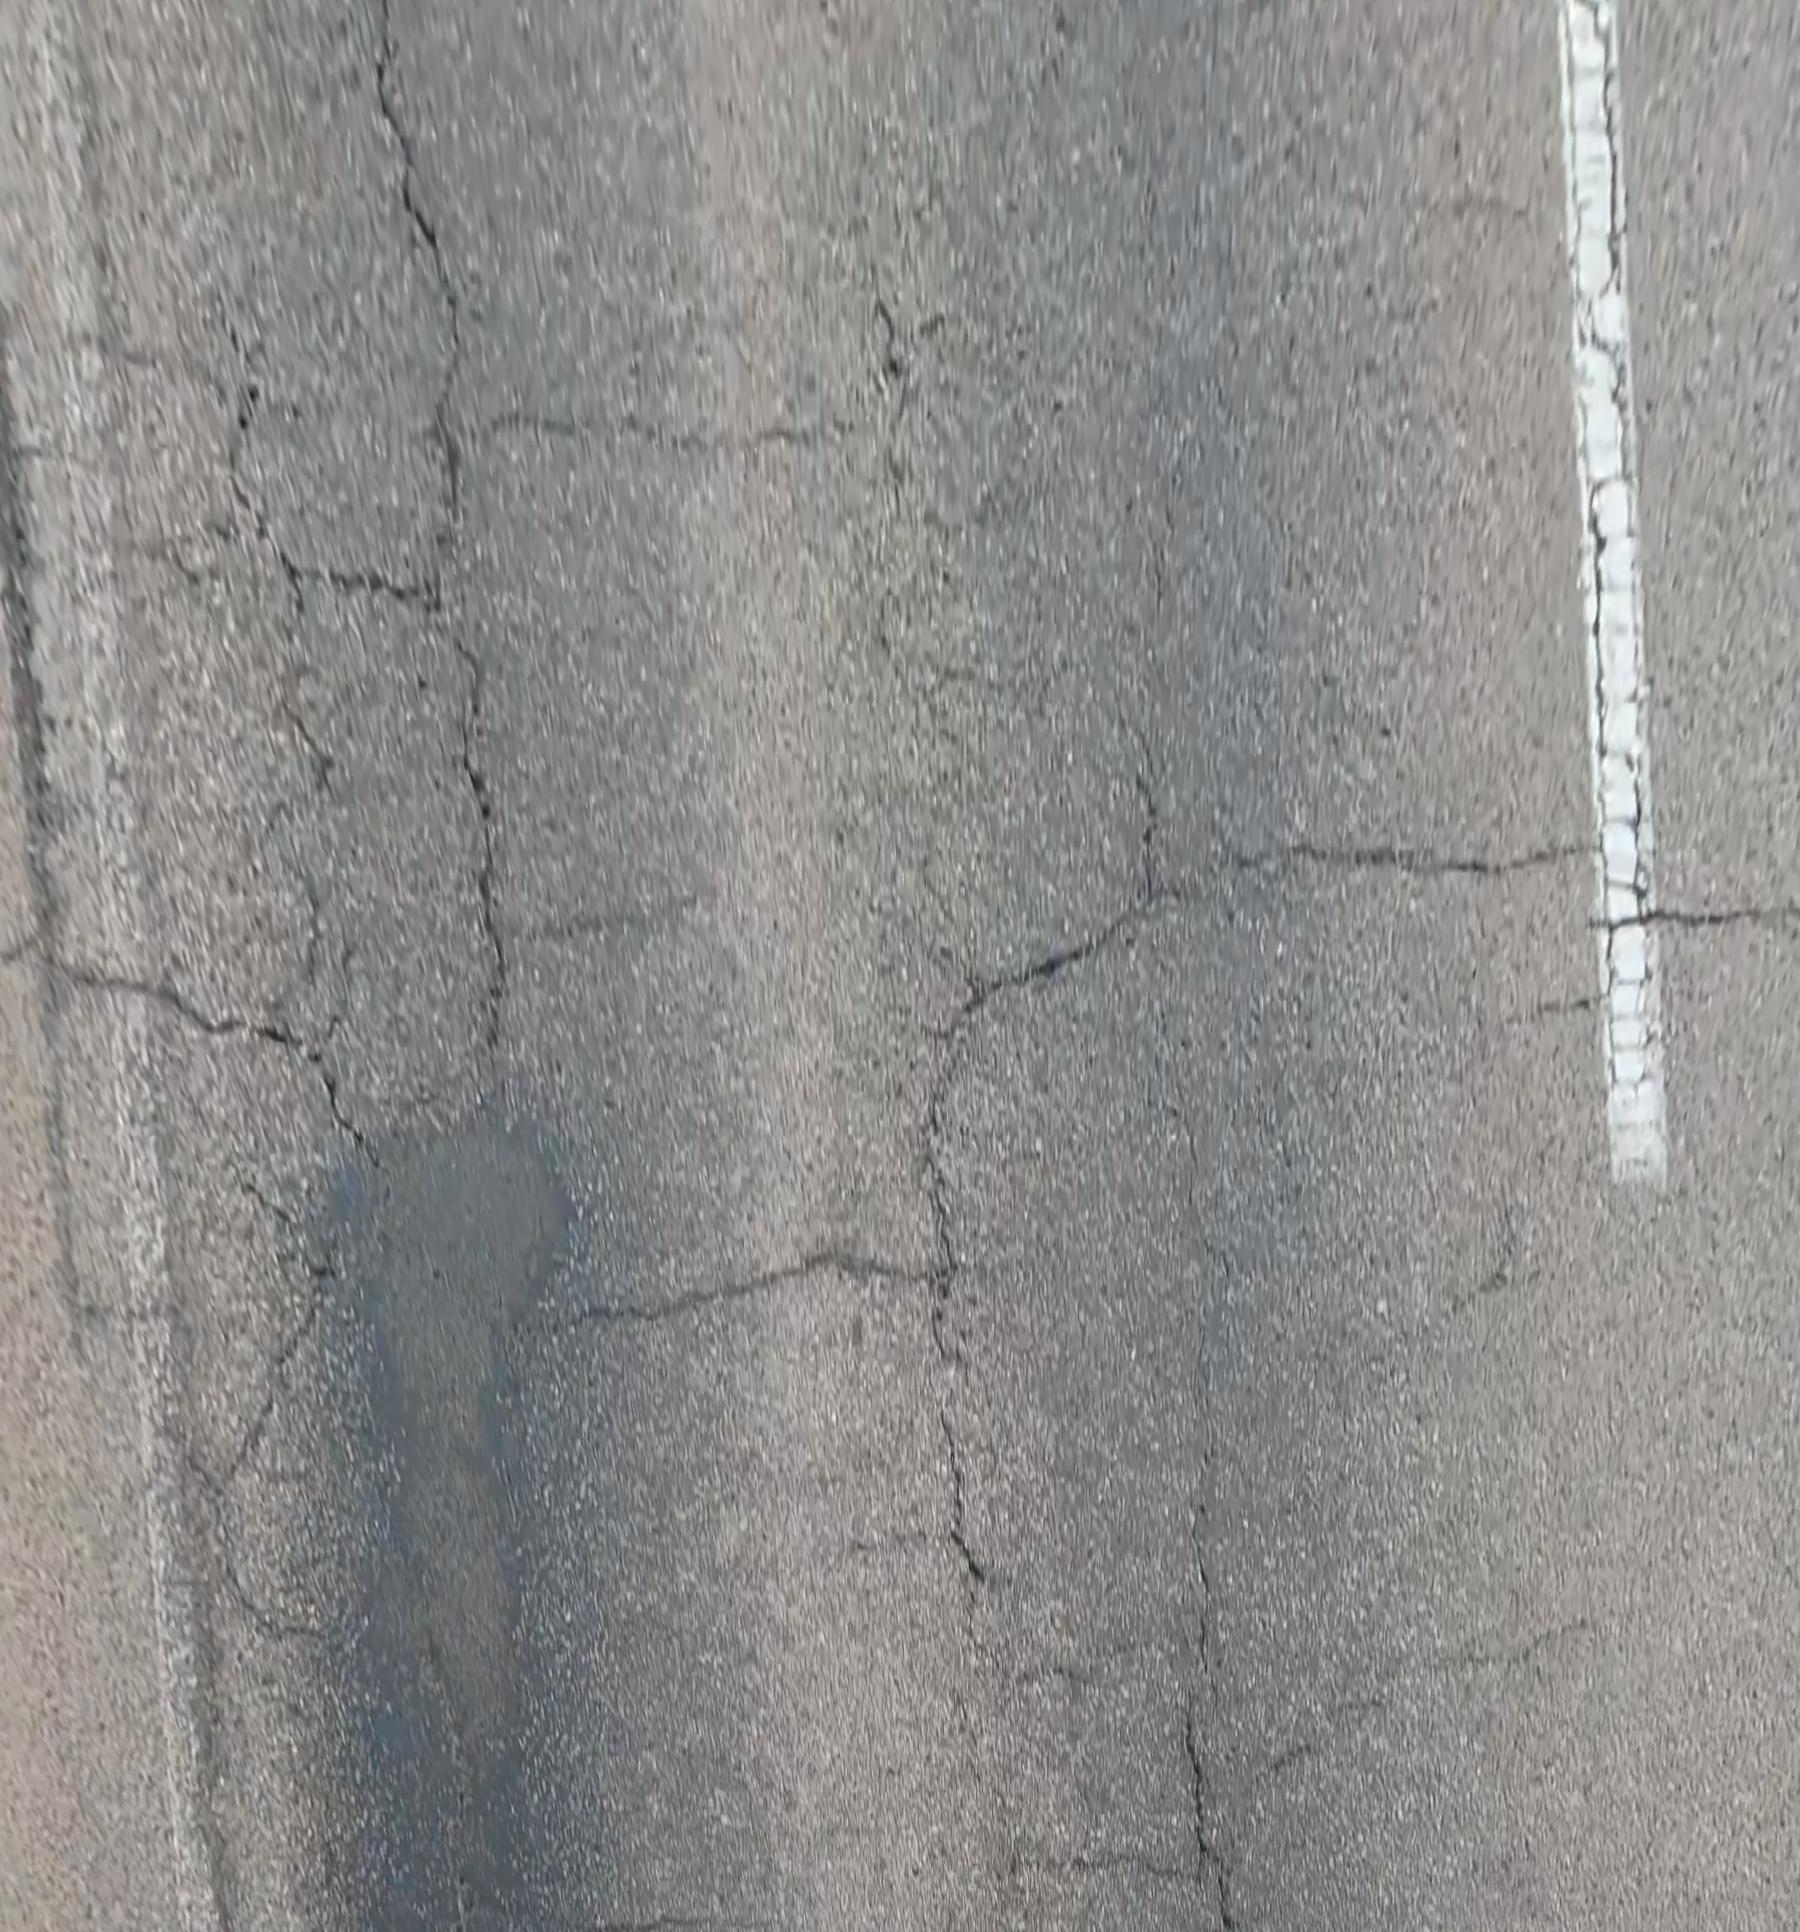pothole_patch_good: (327, 1110, 650, 1932)
